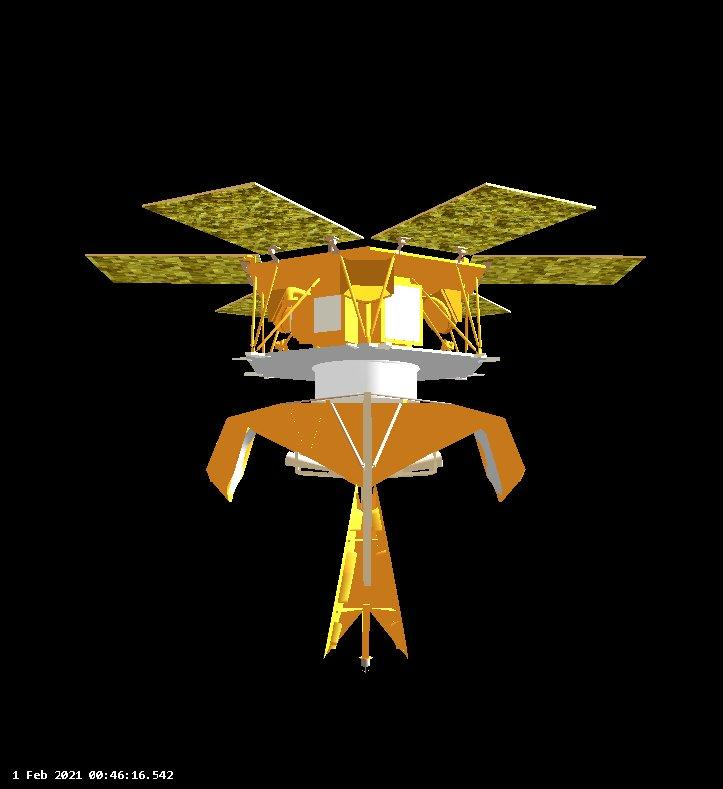antenna: (277, 437, 451, 488), (467, 417, 508, 502), (224, 419, 261, 510), (349, 598, 384, 673)
body: (234, 238, 510, 405)
solar: (367, 178, 602, 259), (137, 177, 369, 257), (455, 250, 652, 290), (79, 248, 271, 286), (205, 285, 297, 321), (438, 288, 515, 323)
